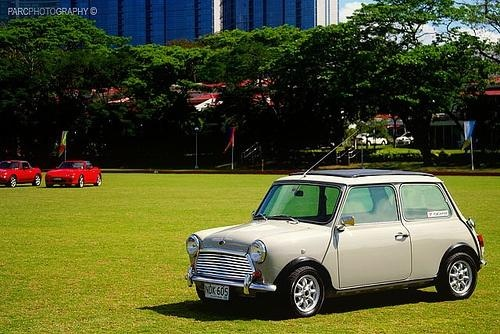car: (185, 168, 487, 316), (45, 157, 104, 187), (1, 158, 43, 189), (357, 130, 390, 149), (394, 130, 419, 147)
